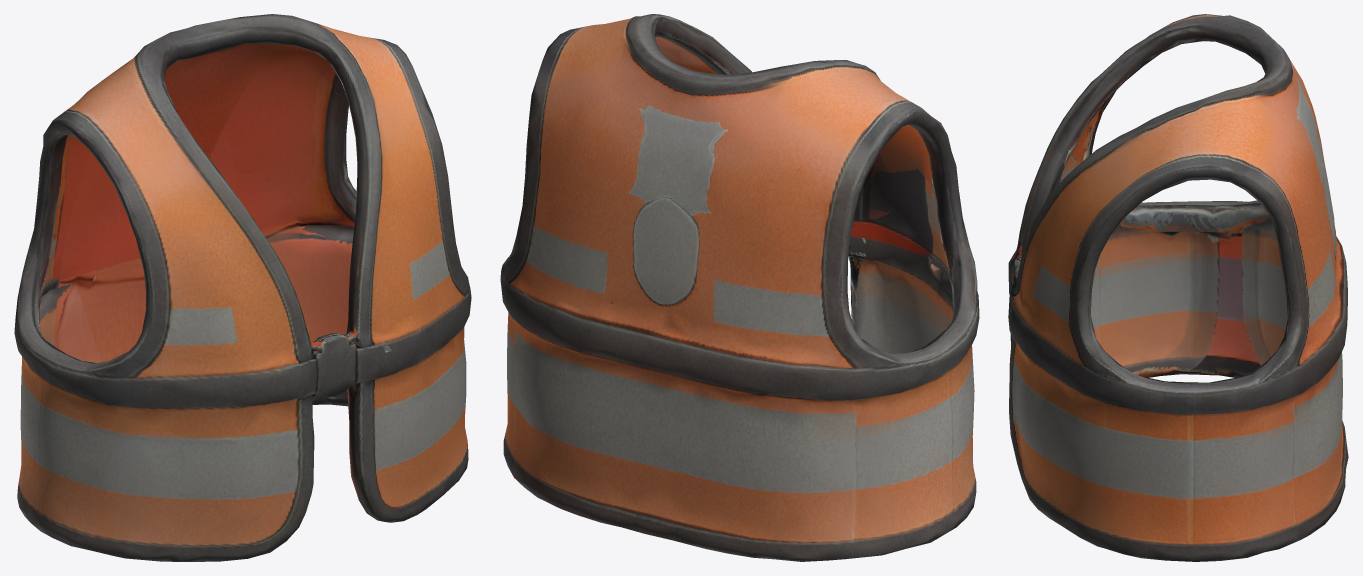
Rendered from Item_Cloth_SafetyVest2.glb.
The picture shows the model from 3 angles, left to right: view 1: azimuth 30°, elevation 25°; view 2: azimuth 150°, elevation 25°; view 3: azimuth 270°, elevation 25°; orthographic projection. The views are drawn at different scales.
Parts seen in each view (by area): view 1: input; view 2: input; view 3: input.
Boxes of the visible parts, bbox=[...] form: input: bbox=[14, 14, 471, 561]; input: bbox=[500, 14, 979, 561]; input: bbox=[1008, 14, 1348, 561].
Bounding box in the file's own units: 1 × 0.9991 × 0.7453.
1 material, 1 textured.
